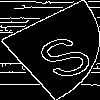S: (24, 25, 99, 83)
